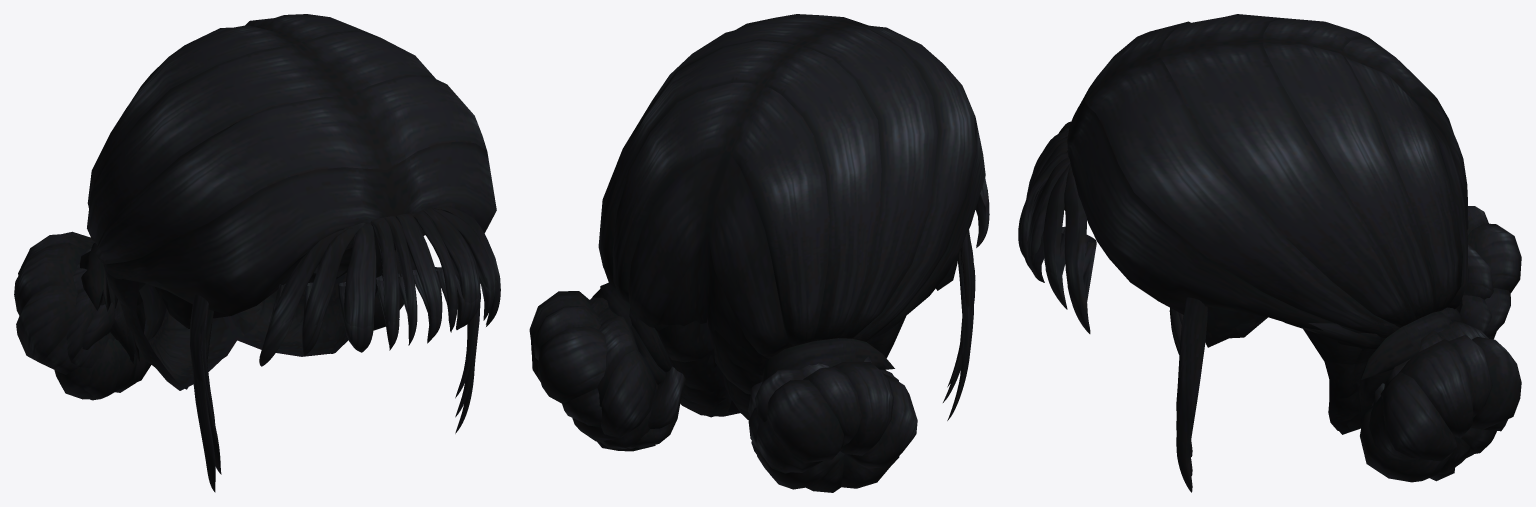
File: hair12.glb
3 views of the same model, side by side, from view 1: azimuth 30°, elevation 25°; view 2: azimuth 150°, elevation 25°; view 3: azimuth 270°, elevation 25° (orthographic). The views are drawn at different scales.
Parts seen in each view (by area): view 1: s4studio_mesh_2, s4studio_mesh_1, s4studio_mesh_3; view 2: s4studio_mesh_2, s4studio_mesh_3, s4studio_mesh_1; view 3: s4studio_mesh_2, s4studio_mesh_1, s4studio_mesh_3.
Boxes of the visible parts, bbox=[...] form: s4studio_mesh_2: bbox=[14, 14, 496, 492]; s4studio_mesh_1: bbox=[82, 206, 500, 474]; s4studio_mesh_3: bbox=[66, 248, 500, 424]; s4studio_mesh_2: bbox=[529, 14, 985, 492]; s4studio_mesh_3: bbox=[588, 185, 989, 471]; s4studio_mesh_1: bbox=[597, 178, 989, 454]; s4studio_mesh_2: bbox=[1067, 14, 1521, 492]; s4studio_mesh_1: bbox=[1018, 121, 1462, 481]; s4studio_mesh_3: bbox=[1018, 207, 1493, 457].
Size of the model in its own units: 0.1978 by 0.1894 by 0.2194.
Materials: 1 (1 with a texture image).
